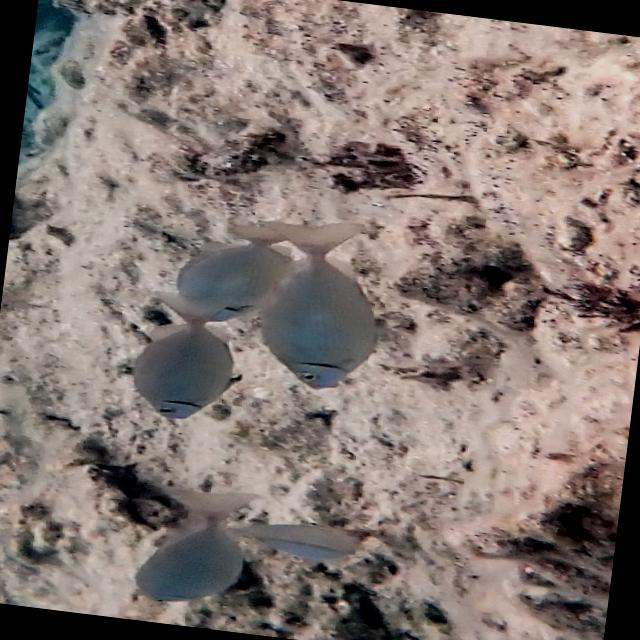Sokar Baligi: (234, 208, 407, 402), (112, 278, 253, 439)
